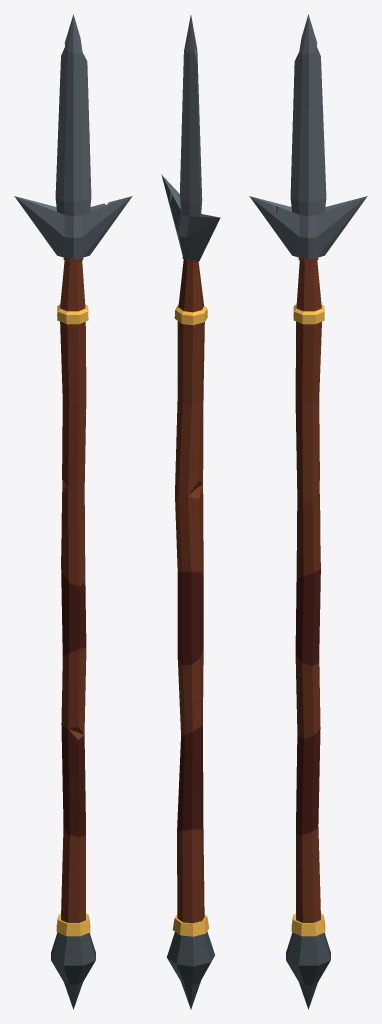
Rendered from spear.fbx.
The picture shows the model from 3 angles, left to right: view 1: azimuth 90°, elevation 25°; view 2: azimuth 210°, elevation 25°; view 3: azimuth 270°, elevation 25°; orthographic projection.
Visible parts, largest first — view 1: spear; view 2: spear; view 3: spear.
Part boxes in pixels (box(x1,y1,x2,y2)): spear: box(14, 14, 132, 1009); spear: box(161, 15, 220, 1009); spear: box(249, 14, 367, 1009).
Bounding box in the file's own units: 4.51 × 111 × 11.94.
